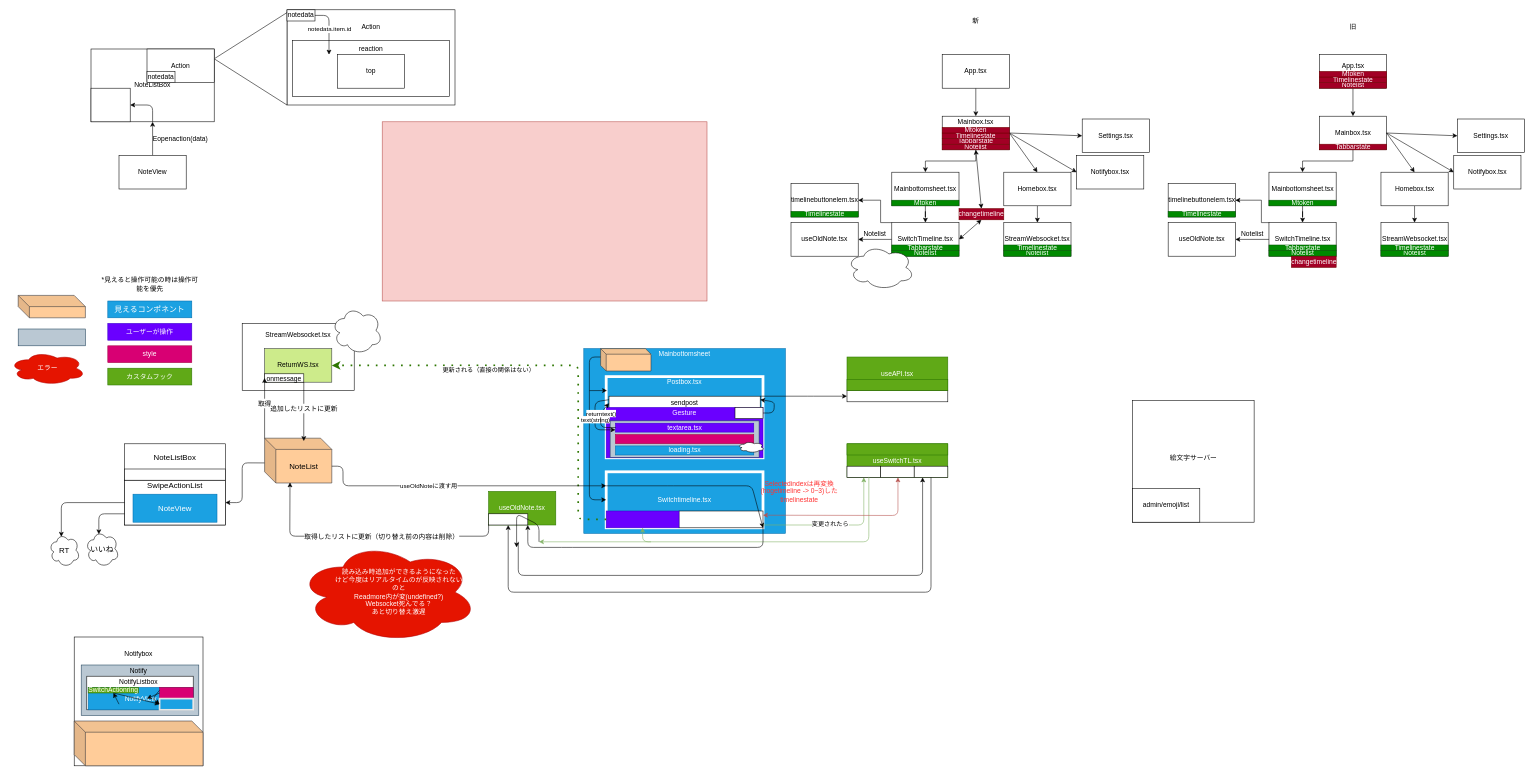
Some shapes in this 1534 by 776 pixel diagram are drawn without their labels. The centre of each missing label's shape, as x and y in pixels:
<ButtonGroup> selectedIndex(0,1,2,3): pixel 720 519
Actionring: pixel 176 703
addoldnote: pixel 508 519
convert: pixel 863 471
Notelistを移すことはできない invalid hook call: pixel 880 267
NotifyList: pixel 138 743
NotifyStyle: pixel 176 693
onswipe: pixel 748 413
openAction( notedatawrite(data); actionSheetRef.current?. setModalVisible (); ): pixel 110 105
Props {Mtoken:hoge}: pixel 625 359
reconvert: pixel 897 471
return response or false: pixel 897 385
return {convert.reconvert}: pixel 897 449
sendAPI: pixel 897 396
style.tsx: pixel 684 439
toendpoint: pixel 931 471
View: pixel 174 474
ws.send(disconnect -> connect): pixel 642 519
あんまり更新されてないから参考にしないで(2021/8/22): pixel 544 211
フォルダ: pixel 51 337
ローディング（予定）: pixel 356 330
予定: pixel 750 447
変数: pixel 51 306
